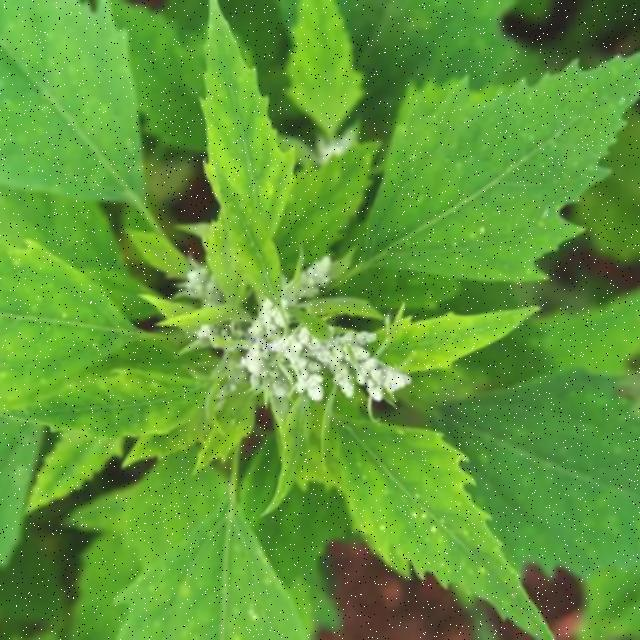NA: (43, 30, 640, 588)
